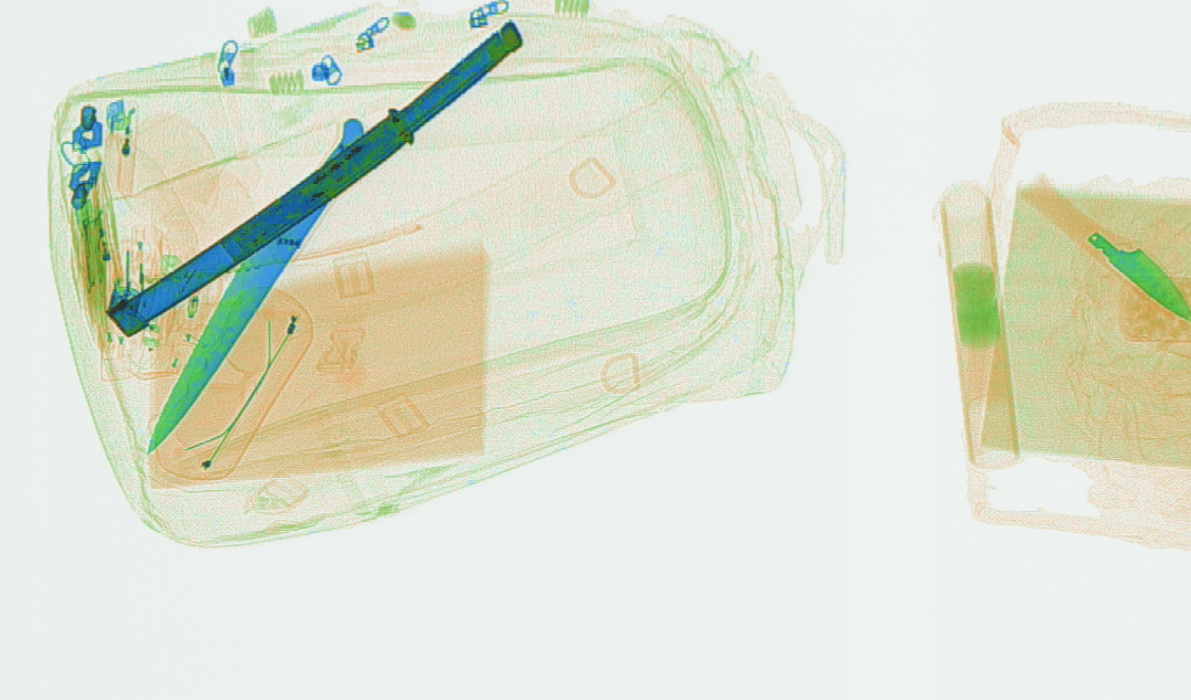firecrackers: (936, 181, 1020, 472)
knife: (140, 115, 366, 454), (1013, 172, 1186, 317)
lighter: (73, 194, 113, 309), (97, 95, 134, 197)
